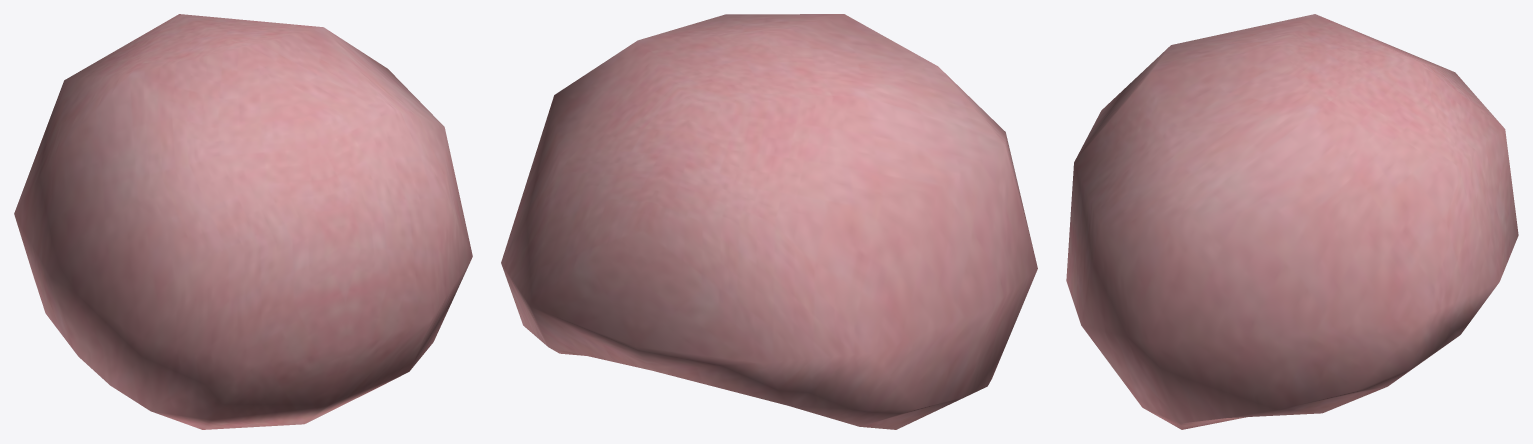
File: afroC.glb
The picture shows the model from 3 angles, left to right: view 1: azimuth 30°, elevation 25°; view 2: azimuth 150°, elevation 25°; view 3: azimuth 270°, elevation 25°; orthographic projection. The views are drawn at different scales.
Visible parts, largest first — view 1: afroC; view 2: afroC; view 3: afroC.
Part boxes in pixels (x1,y1,x2,y2): afroC: (14,14,472,429); afroC: (501,14,1037,429); afroC: (1066,14,1518,429).
Bounding box in the file's own units: 0.3639 × 0.3013 × 0.3576.
Materials: 1 (1 with a texture image).
